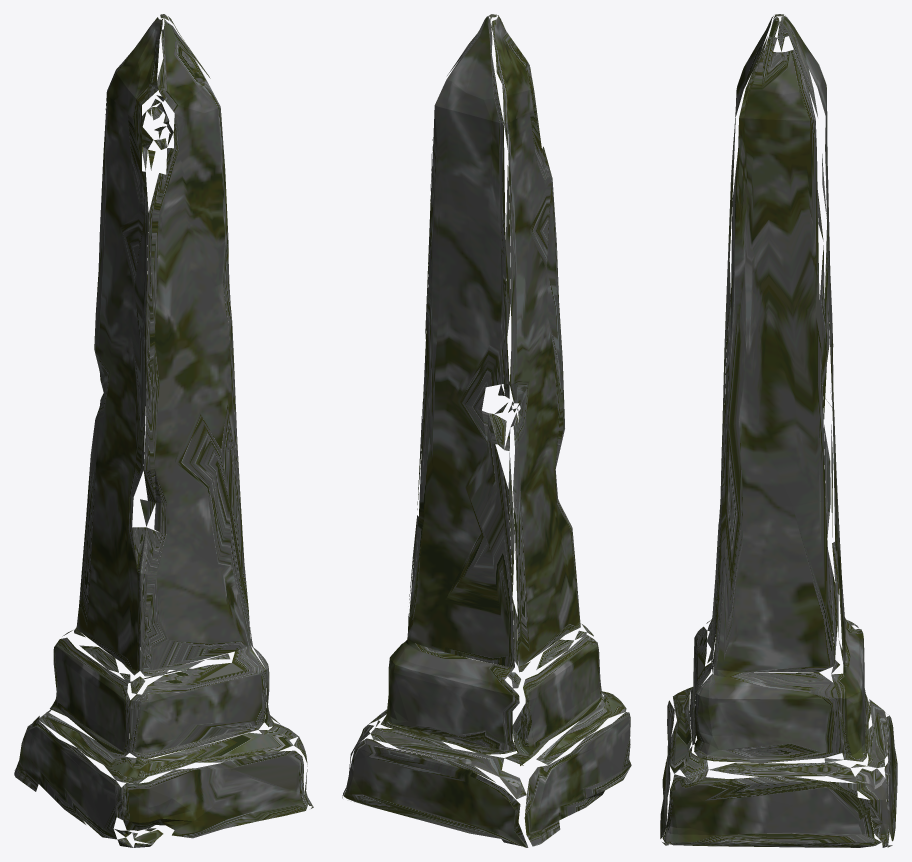
The model's file is gravestone-obelisk-pixelated.glb.
3 renders of one model, left to right at view 1: azimuth 30°, elevation 25°; view 2: azimuth 150°, elevation 25°; view 3: azimuth 270°, elevation 25°, orthographic. The views are drawn at different scales.
Visible parts, largest first — view 1: mesh; view 2: mesh; view 3: mesh.
Boxes of the visible parts, bbox=[...] form: mesh: bbox=[14, 14, 313, 847]; mesh: bbox=[342, 14, 631, 847]; mesh: bbox=[660, 14, 897, 847].
Size of the model in its own units: 0.533 by 2 by 0.5473.
Materials: 1 (1 with a texture image).
